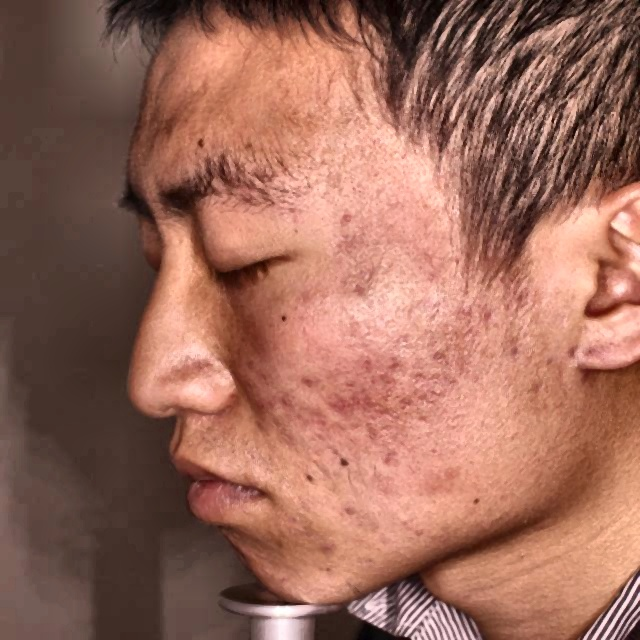pustule: (354, 391, 384, 424), (382, 354, 408, 388), (254, 396, 284, 422), (295, 368, 325, 390), (328, 386, 349, 416), (317, 529, 339, 554)
